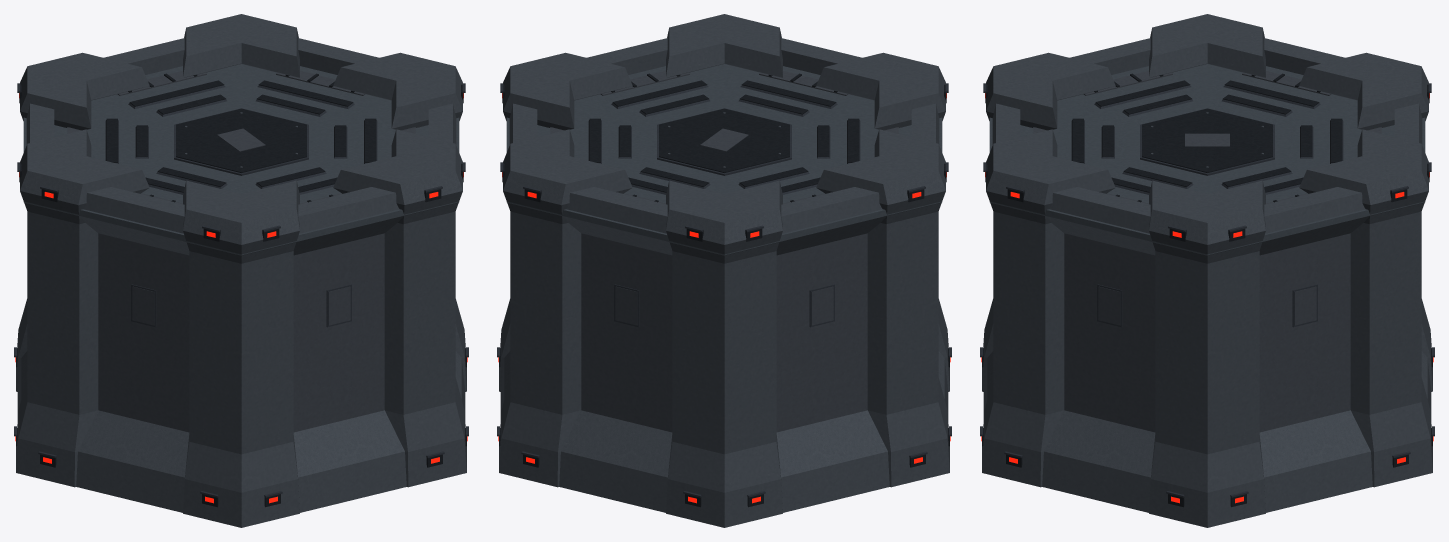
Rendered from terminal.glb.
3 views of the same model, side by side, from view 1: azimuth 30°, elevation 25°; view 2: azimuth 150°, elevation 25°; view 3: azimuth 270°, elevation 25° (orthographic).
Visible parts, largest first — view 1: terminal-lod0-roof0, terminal-lod0-base0, terminal-lod0-floor0; view 2: terminal-lod0-roof0, terminal-lod0-base0, terminal-lod0-floor0; view 3: terminal-lod0-roof0, terminal-lod0-base0, terminal-lod0-floor0.
Part boxes in pixels (x1,y1,x2,y2): terminal-lod0-roof0: (17, 14, 465, 277); terminal-lod0-base0: (14, 299, 468, 527); terminal-lod0-floor0: (27, 225, 455, 399); terminal-lod0-roof0: (500, 14, 948, 277); terminal-lod0-base0: (497, 299, 951, 527); terminal-lod0-floor0: (510, 225, 938, 399); terminal-lod0-roof0: (983, 14, 1431, 277); terminal-lod0-base0: (980, 299, 1434, 527); terminal-lod0-floor0: (993, 225, 1421, 399).
Size of what is drawn, in the model's own units: 69.28 by 44 by 60.56.
6 materials, 6 textured.
